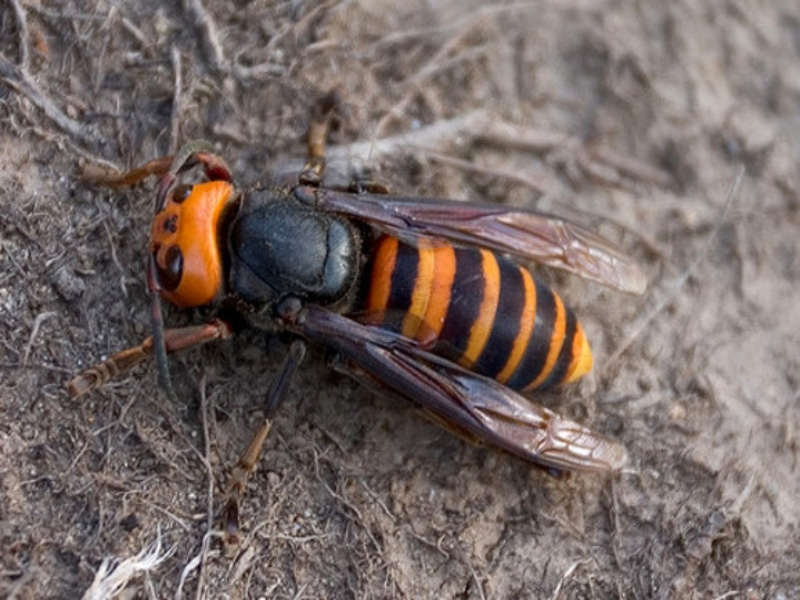asian_giant_hornet: (93, 136, 646, 476)
